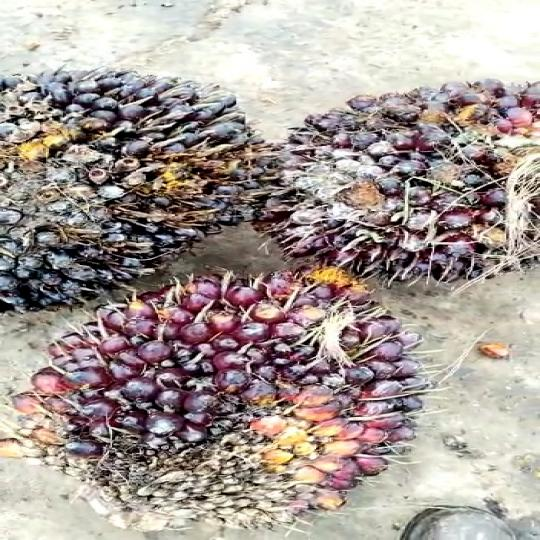kurang masak: (17, 275, 418, 529), (1, 58, 279, 315), (274, 75, 540, 285)
